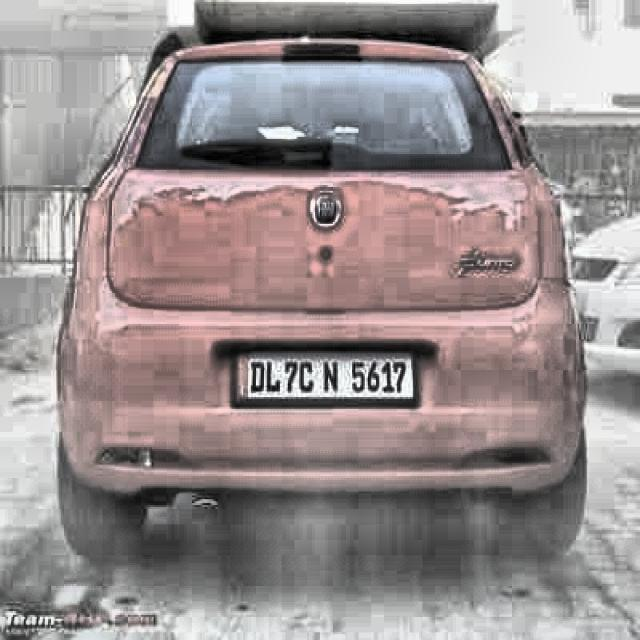license_plate: (235, 352, 414, 409)
